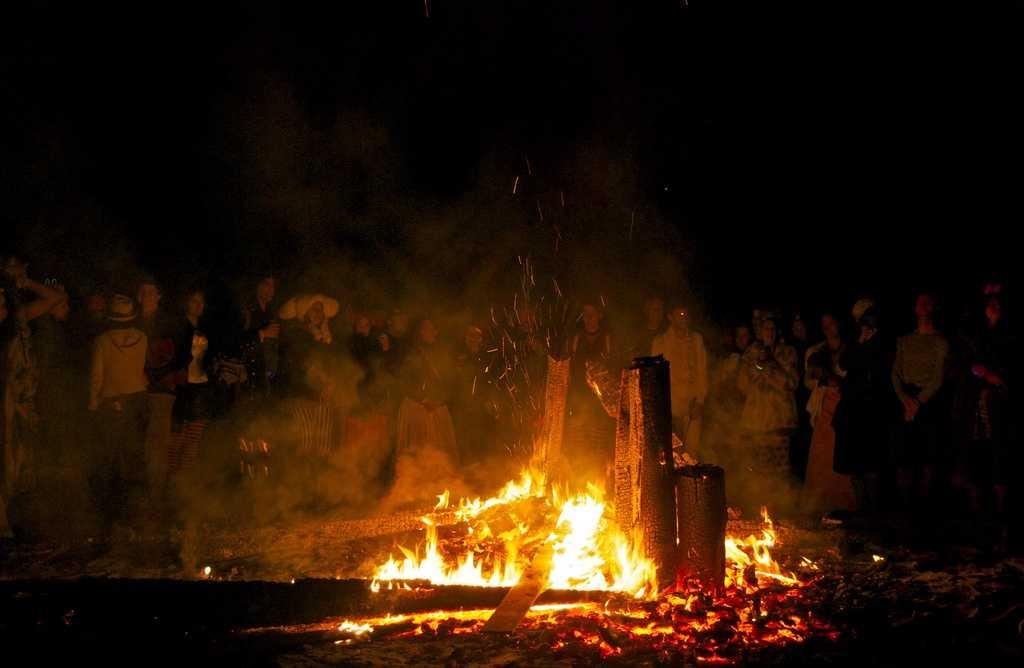fire: (392, 453, 620, 636)
